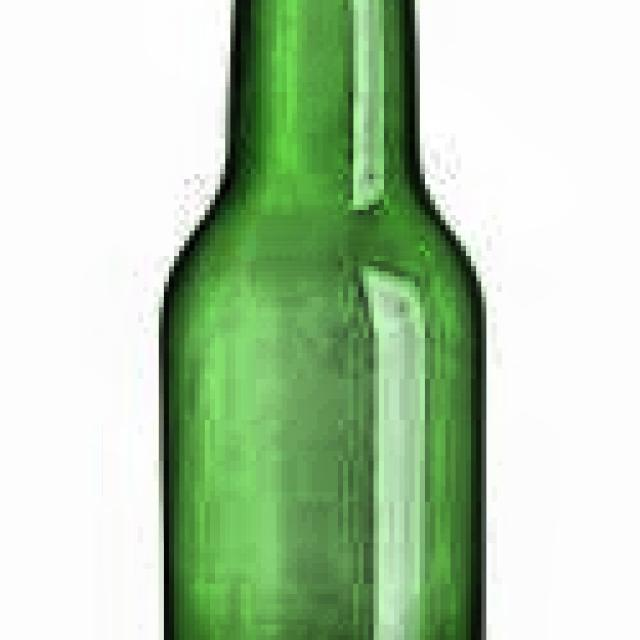glass: (155, 0, 491, 640)
